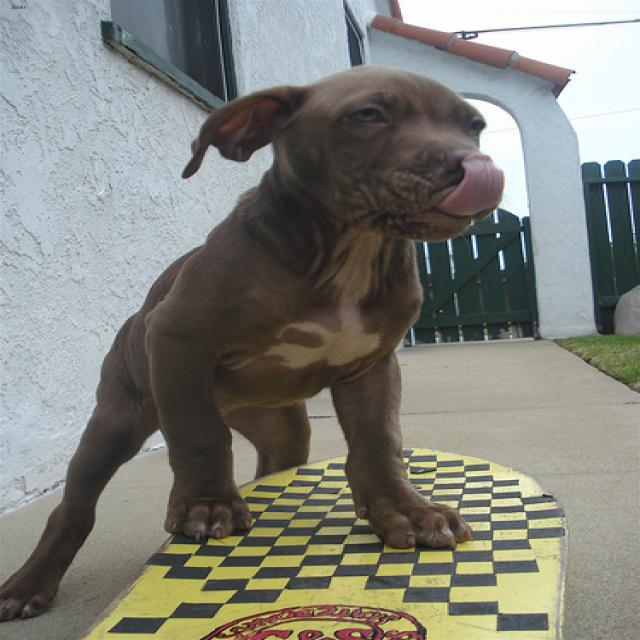dog-american_pit_bull_terrier: (2, 58, 512, 623)
